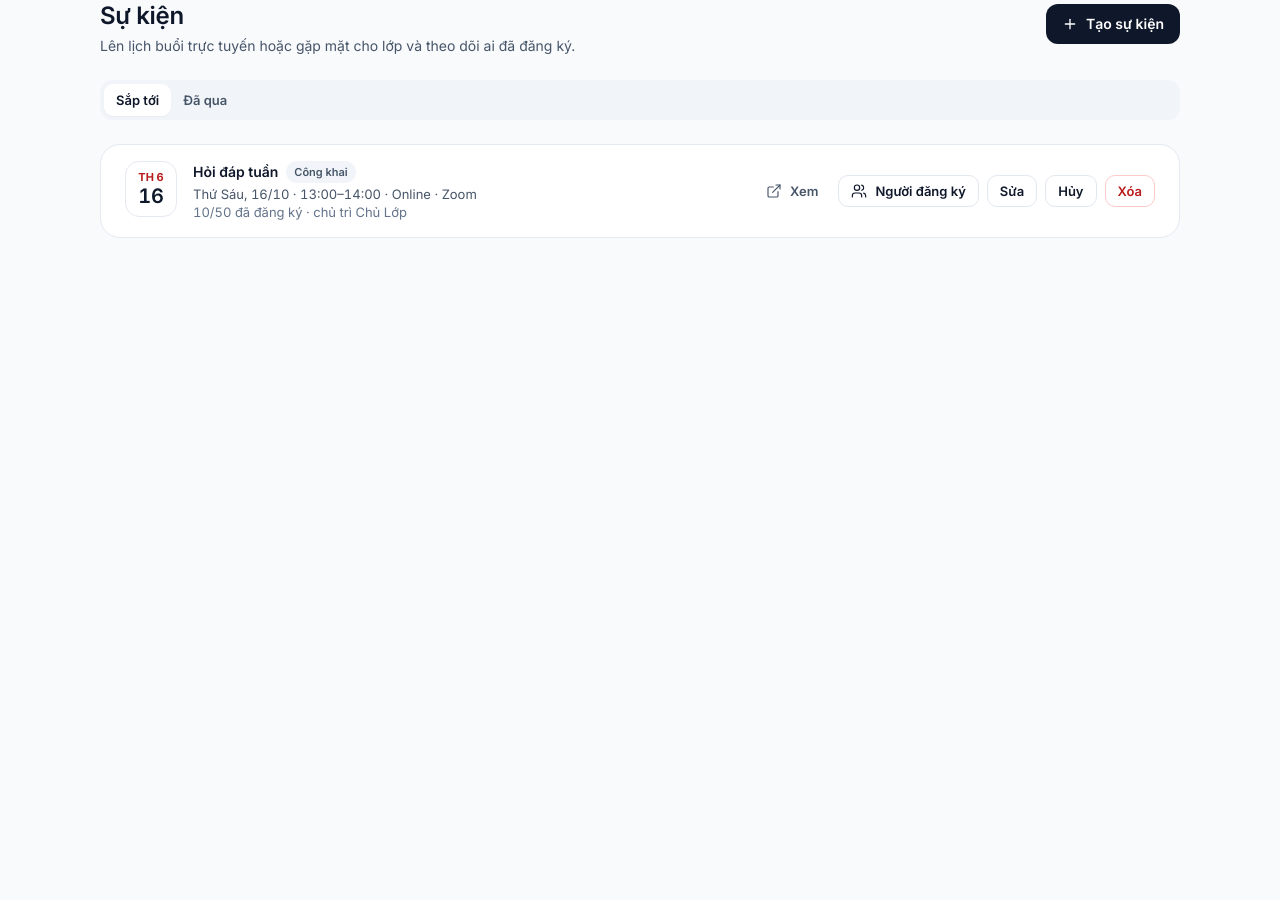
Test: StudioEvents › cancels and deletes only after confirmation
Click the button with aria-label "Hủy sự kiện Hỏi đáp tuần" at (1071, 191), box x1=1045 y1=175 x2=1096 y2=207
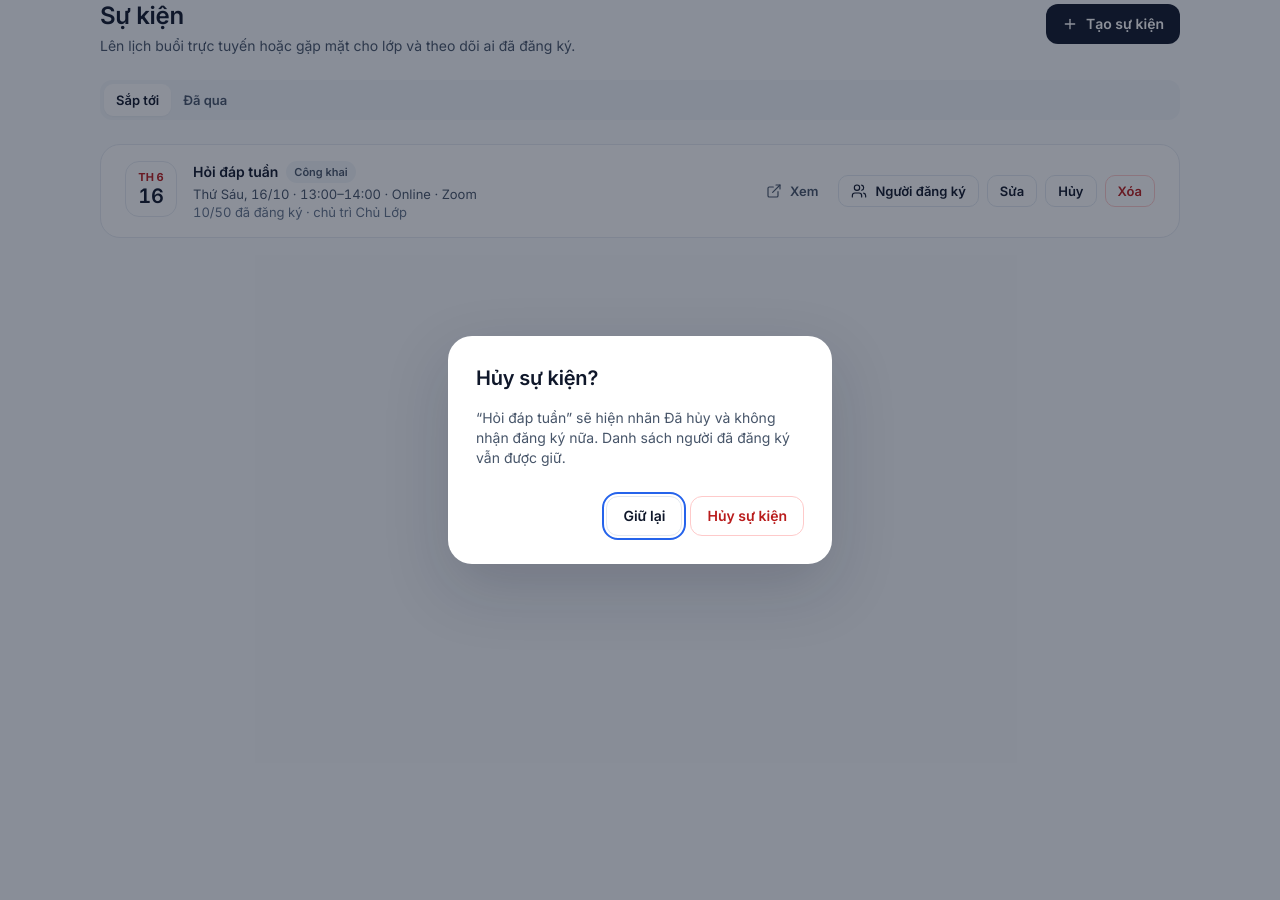
Click the button "Hủy sự kiện" at (747, 516), box x1=690 y1=496 x2=804 y2=536
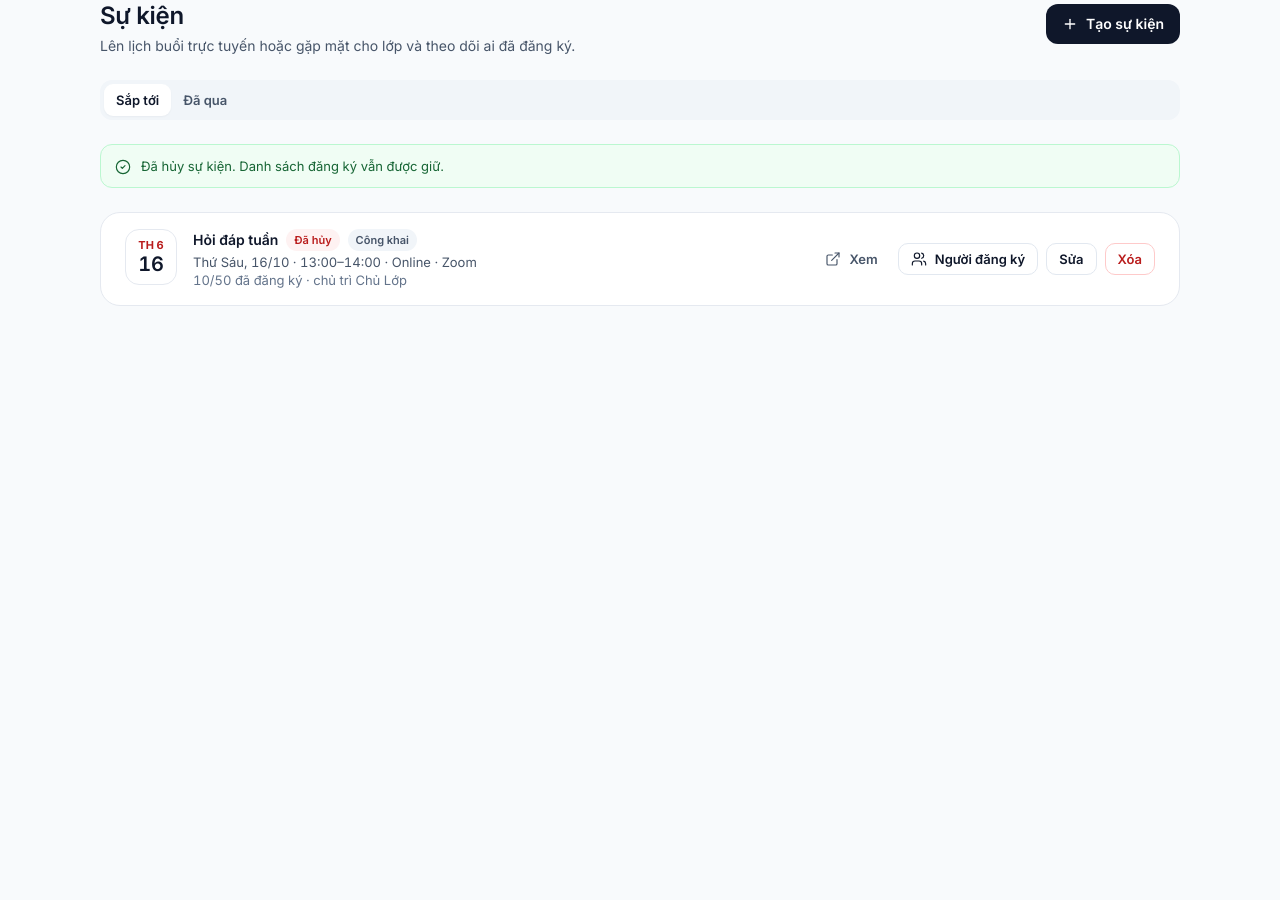
Now the text "Đã hủy" is shown, box x1=286 y1=229 x2=340 y2=251
Click the button with aria-label "Xóa sự kiện Hỏi đáp tuần" at (1130, 259), box x1=1104 y1=243 x2=1155 y2=275
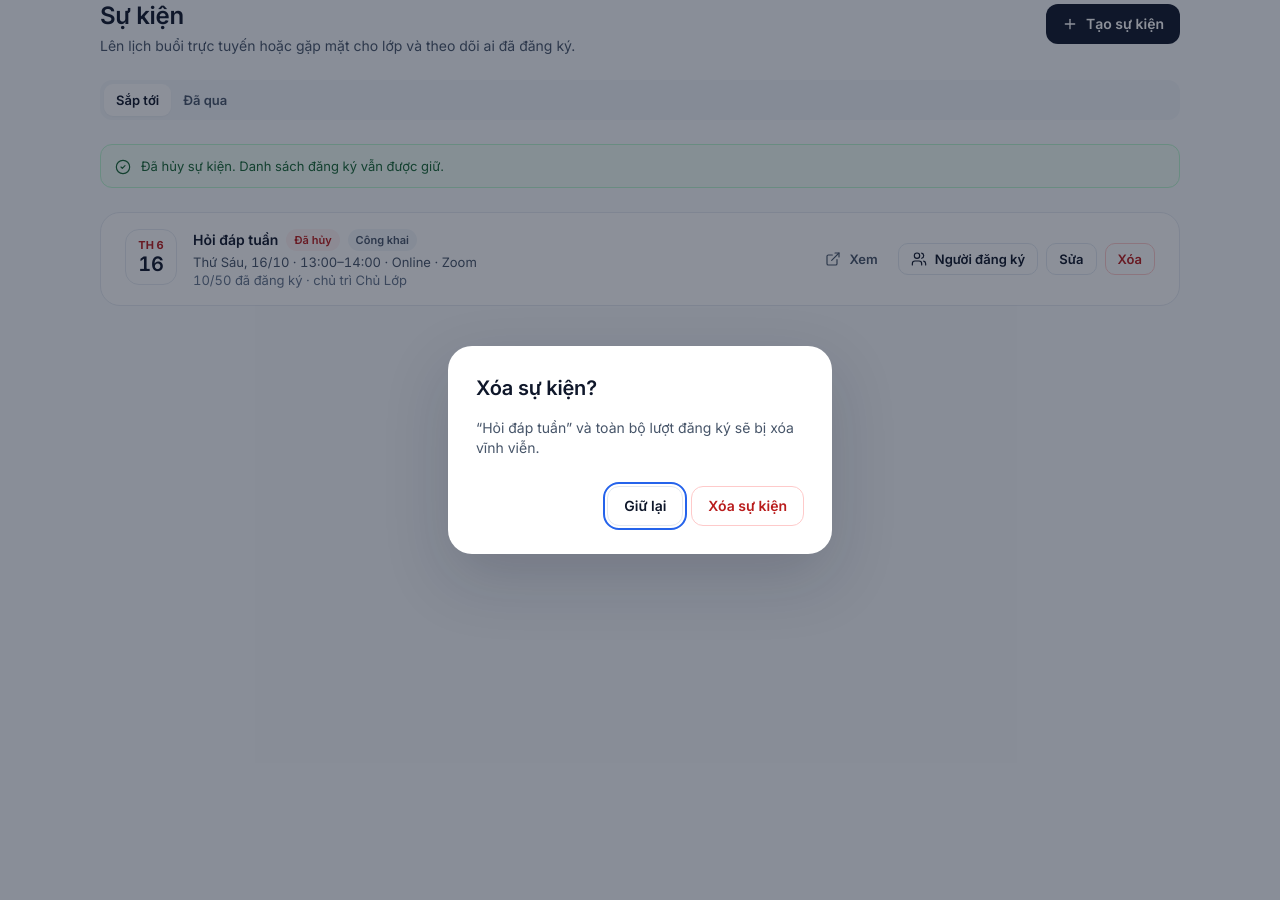
Click the button "Xóa sự kiện" at (748, 506), box x1=691 y1=486 x2=804 y2=526
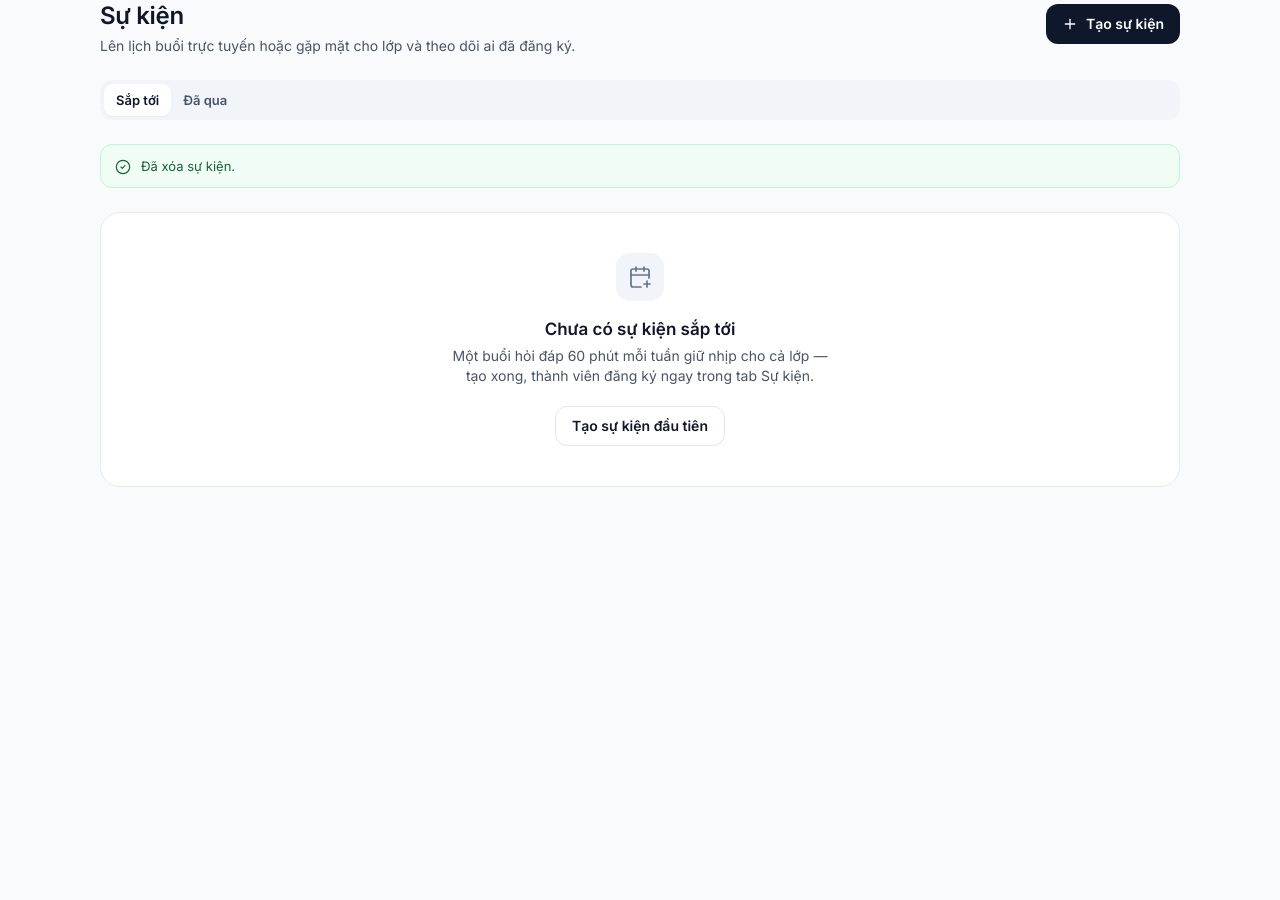
Now the text "Hỏi đáp tuần" is gone
